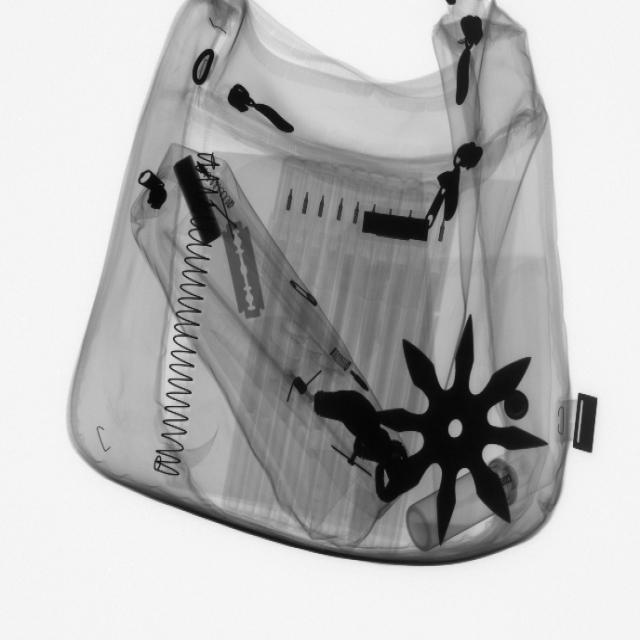BLADE: (221, 217, 270, 325)
SHURIKEN: (362, 313, 549, 545)
